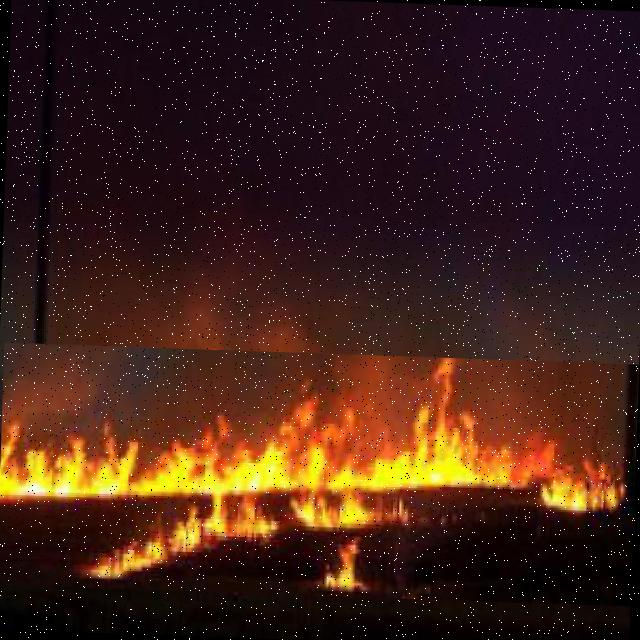fire: (0, 342, 638, 606)
